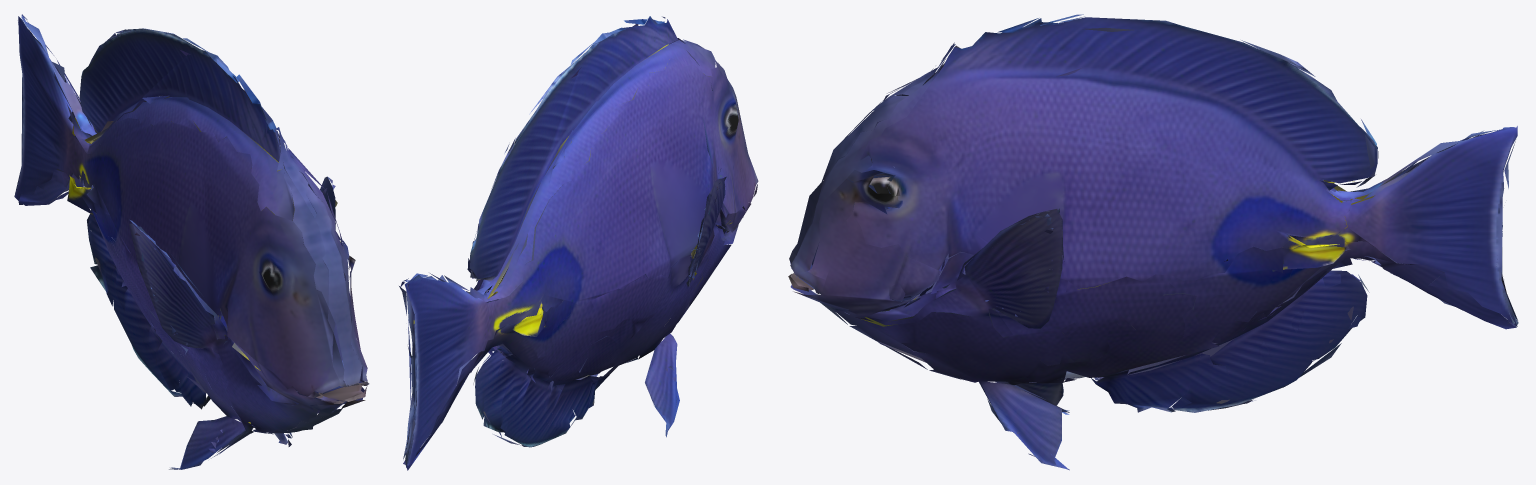
The model's file is tang.glb.
3 renders of one model, left to right at view 1: azimuth 30°, elevation 25°; view 2: azimuth 150°, elevation 25°; view 3: azimuth 270°, elevation 25°, orthographic. The views are drawn at different scales.
Visible parts, largest first — view 1: tang.001; view 2: tang.001; view 3: tang.001.
Part boxes in pixels (x1,y1,x2,y2): tang.001: (14, 14, 369, 469); tang.001: (399, 16, 758, 470); tang.001: (788, 14, 1518, 470).
Bounding box in the file's own units: 0.3426 × 0.6487 × 1.
1 material, 1 textured.
